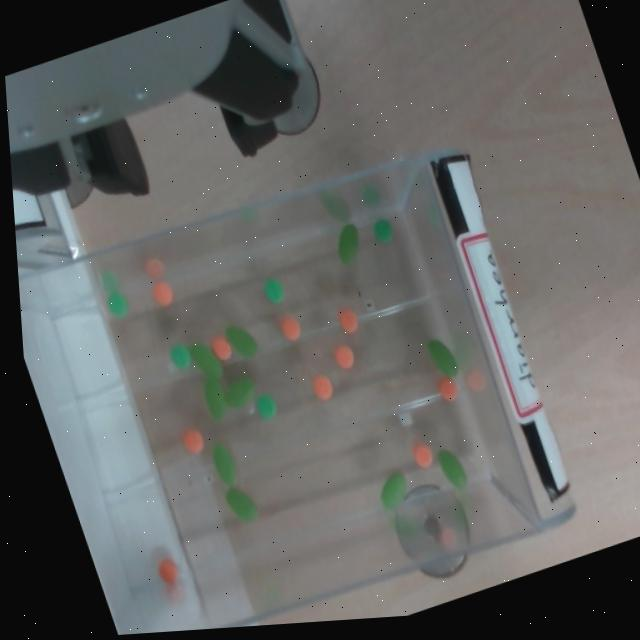famodine: (251, 391, 278, 422), (260, 274, 285, 305), (167, 341, 192, 371), (104, 291, 129, 320), (370, 217, 395, 245), (106, 289, 127, 317), (256, 394, 276, 419), (263, 278, 283, 303), (170, 344, 190, 369), (373, 218, 392, 242)
otillen_tab: (423, 334, 460, 384), (221, 481, 260, 526), (185, 337, 224, 382), (207, 439, 241, 490), (373, 469, 413, 512), (434, 444, 469, 493), (222, 318, 260, 363), (197, 373, 230, 422), (329, 222, 366, 265), (218, 373, 259, 411), (427, 339, 457, 378), (436, 449, 466, 488), (188, 343, 221, 377), (225, 486, 257, 521), (225, 325, 257, 358), (211, 443, 235, 486), (203, 375, 226, 419), (380, 471, 406, 509), (224, 376, 254, 408), (338, 223, 358, 263)
samsung_octylonium_tab: (308, 371, 335, 403), (155, 556, 181, 587), (335, 305, 361, 335), (180, 424, 206, 454), (150, 279, 175, 308), (277, 313, 302, 341), (331, 343, 356, 370), (410, 442, 434, 470), (435, 375, 459, 403), (157, 556, 178, 586), (210, 333, 233, 360), (152, 280, 173, 306), (279, 315, 300, 340), (211, 335, 232, 360), (182, 428, 203, 453), (312, 374, 332, 399), (333, 344, 353, 369), (412, 443, 432, 467), (437, 376, 456, 401), (338, 308, 357, 333)
